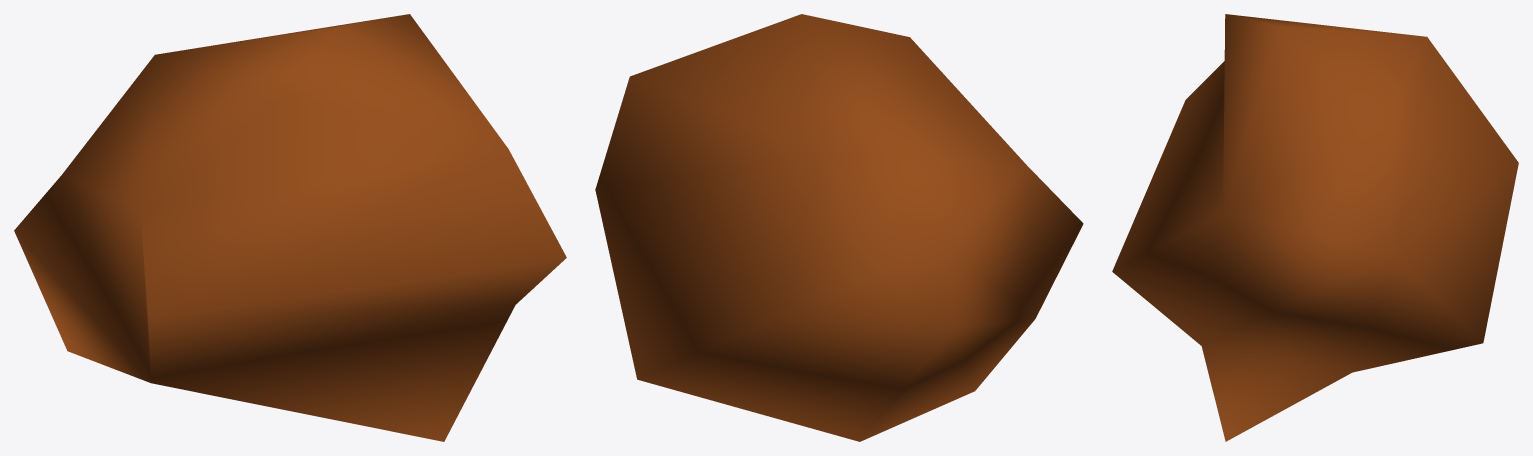
3 renders of one model, left to right at view 1: azimuth 30°, elevation 25°; view 2: azimuth 150°, elevation 25°; view 3: azimuth 270°, elevation 25°, orthographic. The views are drawn at different scales.
Bounding box in the file's own units: 0.1394 × 0.1396 × 0.1354.
